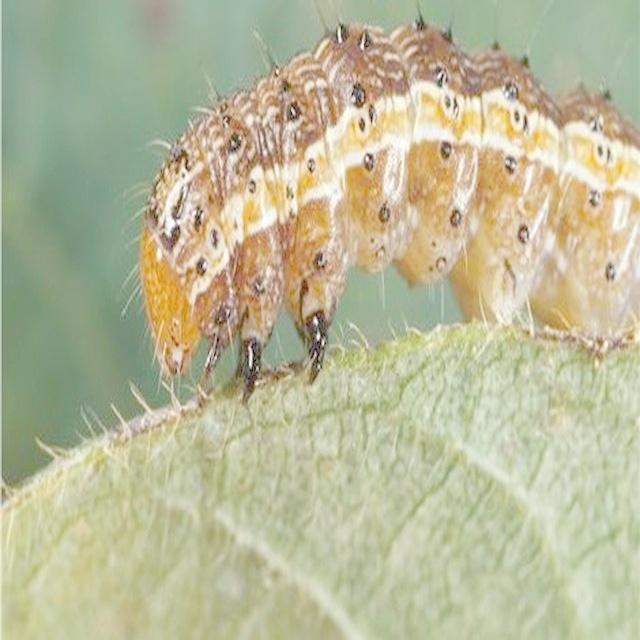gusano_cogollero: (123, 15, 640, 367)
